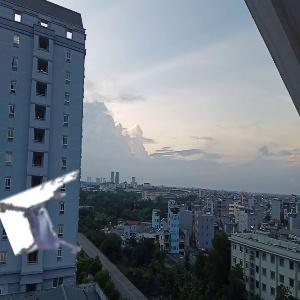drone: (10, 180, 111, 281)
